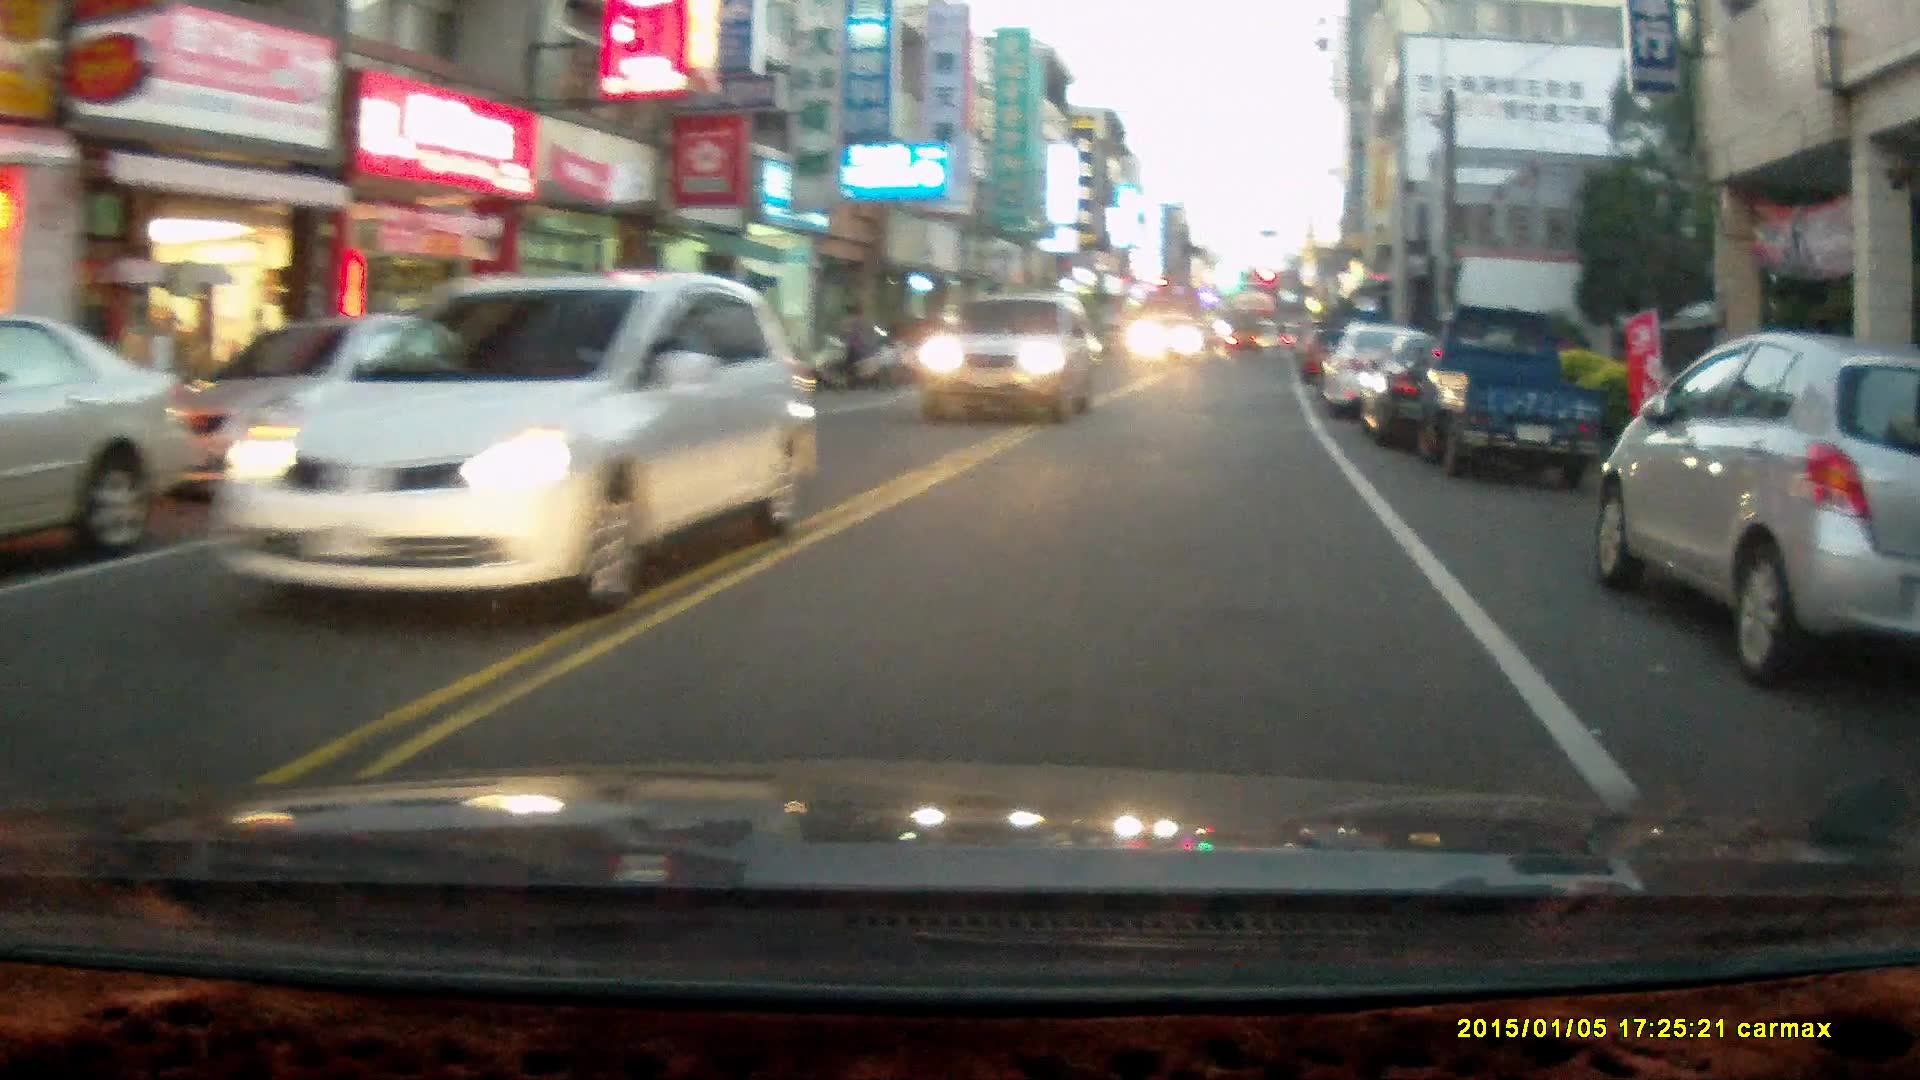pedestrian: (838, 299, 868, 394)
vehicle: (186, 268, 808, 613), (1600, 327, 1920, 690), (1, 308, 203, 579), (1419, 301, 1620, 482), (549, 297, 787, 439), (915, 285, 1108, 419), (1320, 322, 1480, 426), (1135, 307, 1211, 364)
